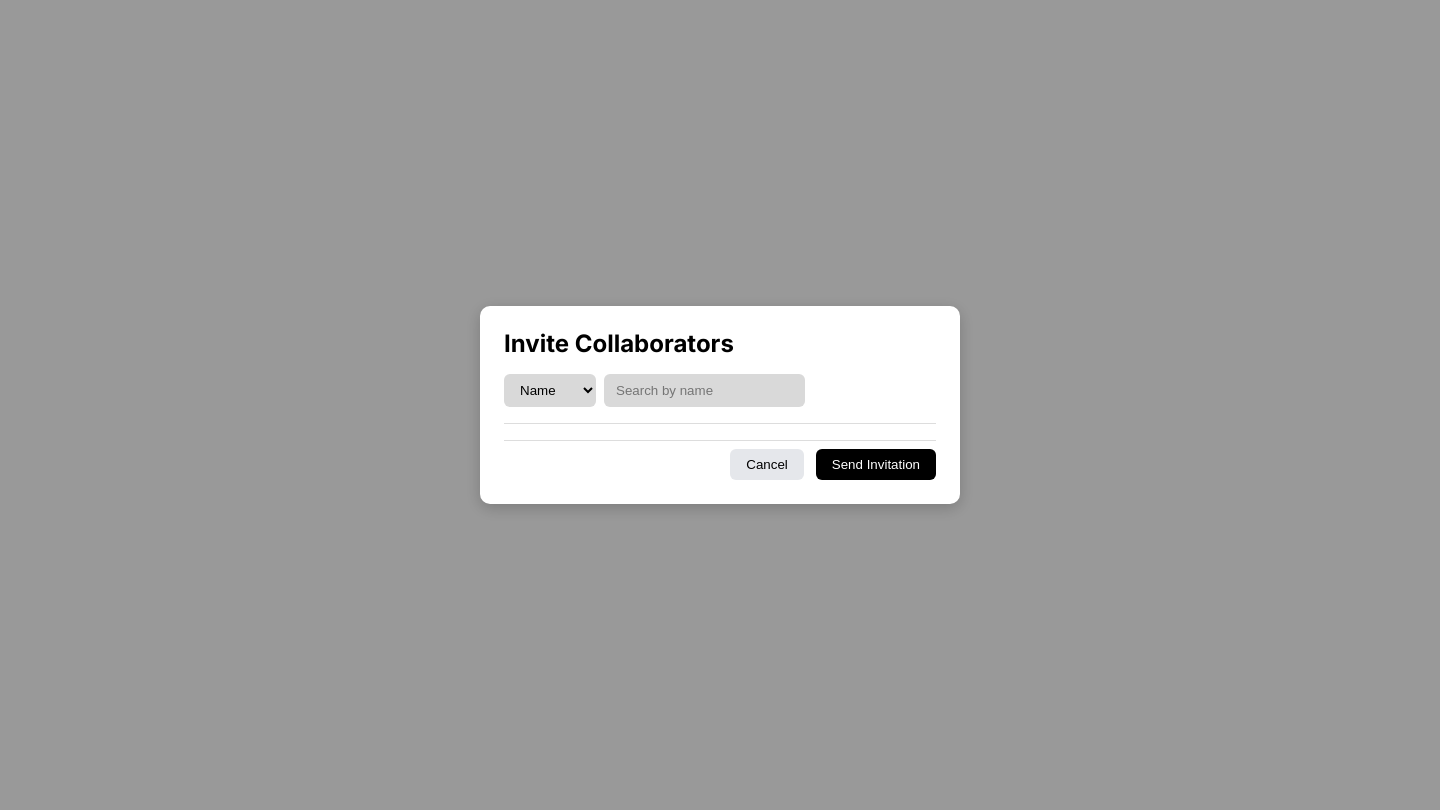
Test: InviteCollaborators › handles search by name (debounced)
Type "John" into the field with placeholder "Search by name" at {"x": 704, "y": 391}, box [604,374,805,407]
Wait 300 ms
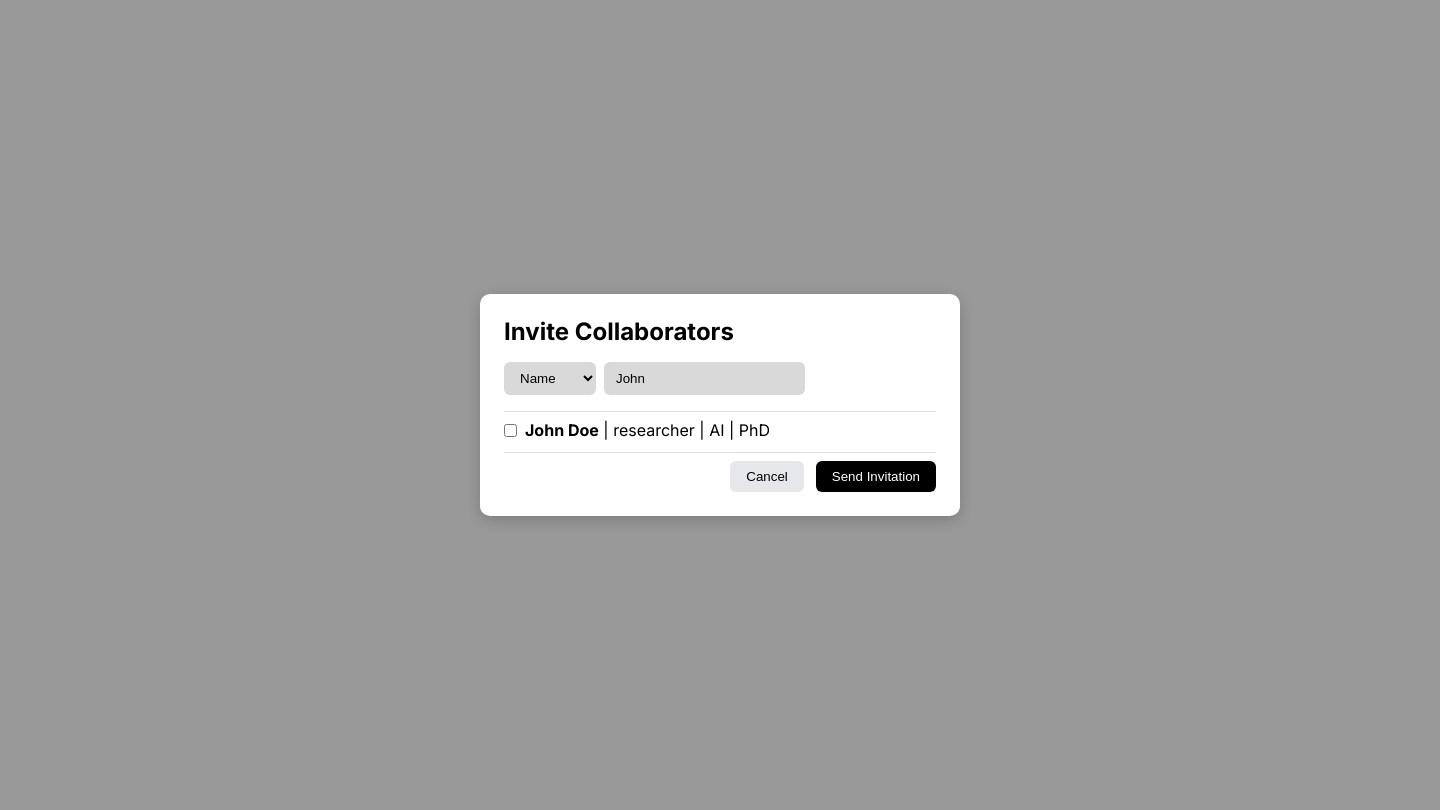
Now the element with test id "user-section" is shown, box [504,420,770,440]
Now the element with test id "user-info" shows "John Doe", box [525,420,770,440]
Now the element with test id "user-info" shows "researcher", box [613,420,695,440]
